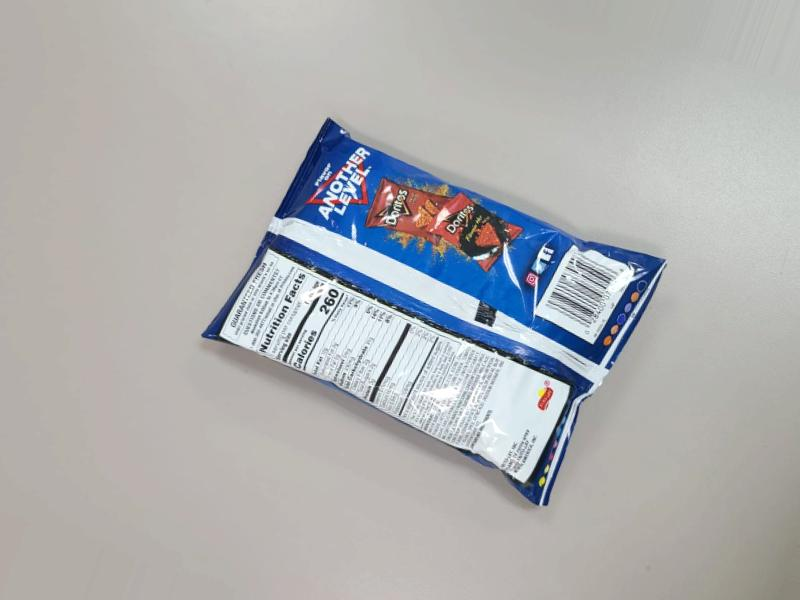doritos: (285, 173, 667, 533)
